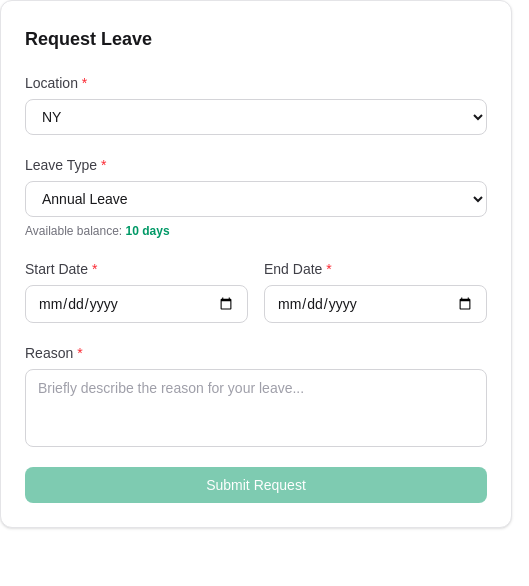
Test: LeaveRequestForm — days calculation › shows 1 day for same start and end date
Type "2026-09-01" into the date field labelled "Start Date *".
click(136, 304); type("2026-09-01")  # box [25, 285, 248, 323]
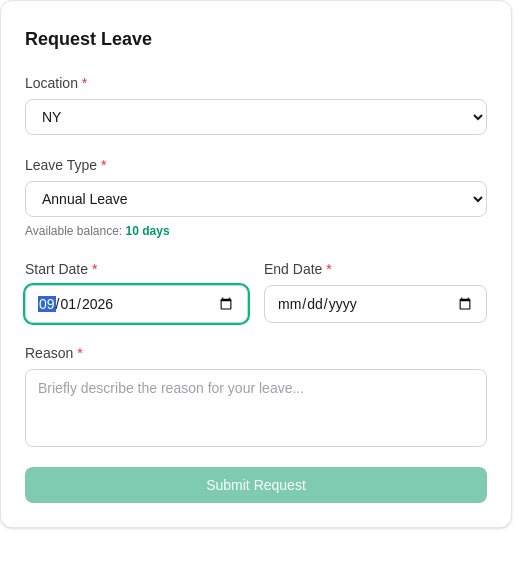
Type "2026-09-01" into the date field labelled "End Date *".
click(376, 304); type("2026-09-01")  # box [264, 285, 487, 323]
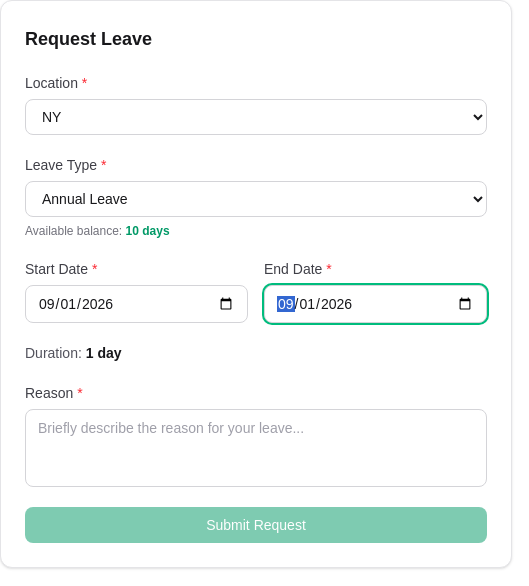
expect the text "1 day" is shown: met, box [86, 345, 122, 361]
